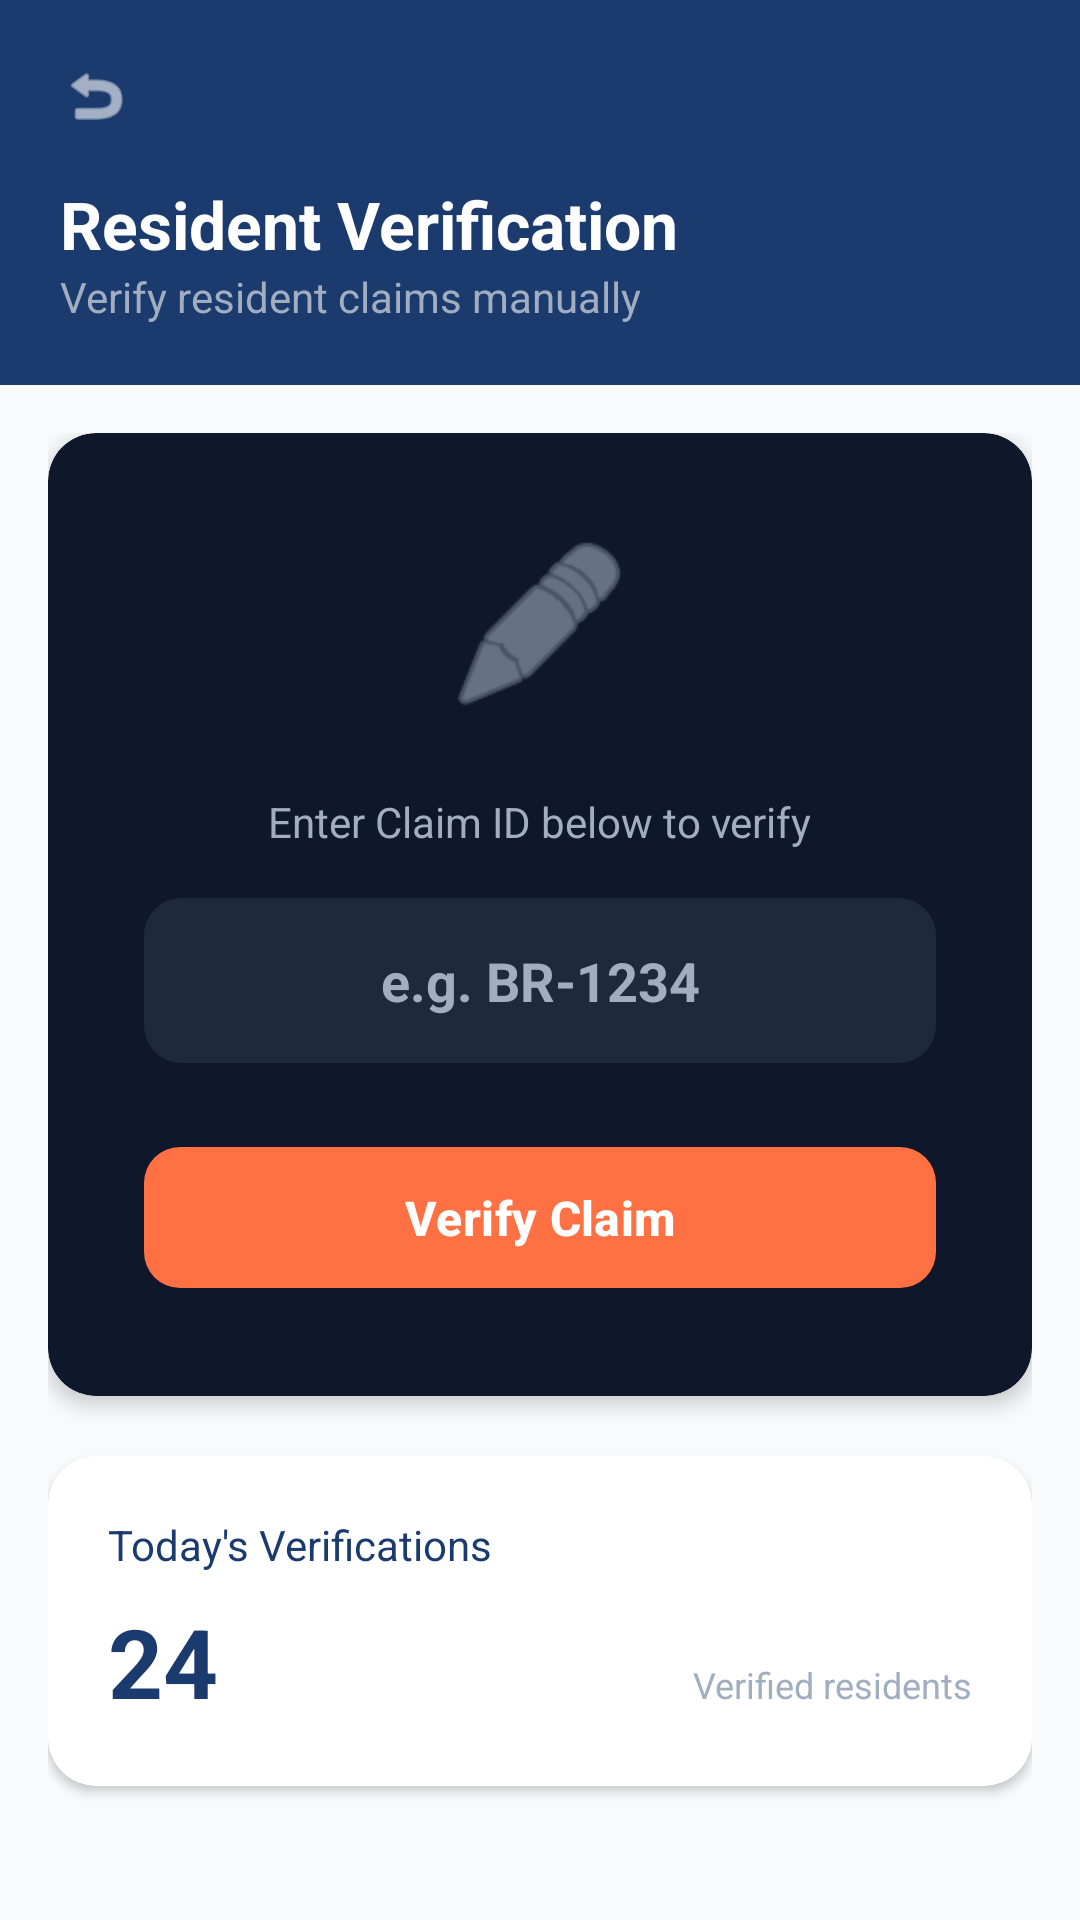

Named icons in this screenshot (1080×1920) and their bounding boxes, (x1, y1, x2, y2):
edit: (458, 543, 620, 705)
revert: (71, 73, 123, 120)
